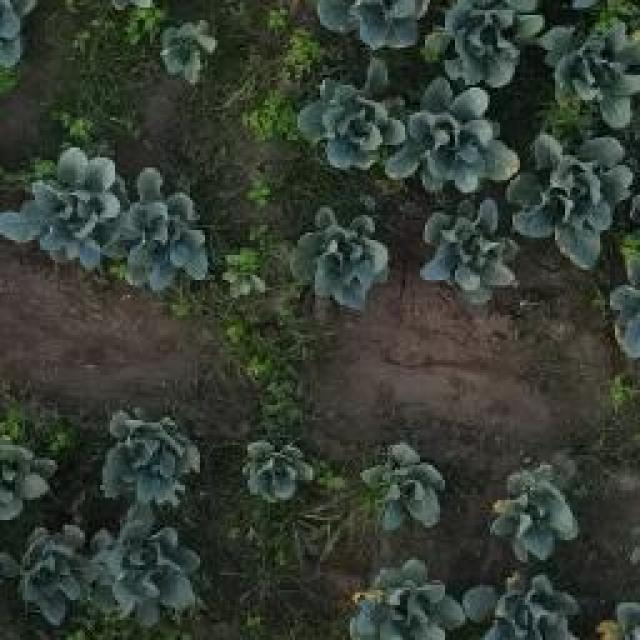cabbage: (517, 138, 633, 266), (393, 84, 522, 197), (5, 142, 115, 260), (110, 170, 212, 292), (302, 55, 407, 169), (546, 0, 640, 123), (293, 204, 397, 308), (94, 514, 199, 616), (425, 0, 540, 82), (99, 409, 202, 500), (350, 555, 460, 640), (422, 206, 517, 301), (494, 464, 576, 562), (463, 571, 579, 640), (364, 436, 446, 528), (20, 522, 90, 623), (240, 436, 316, 504), (158, 14, 228, 86)
